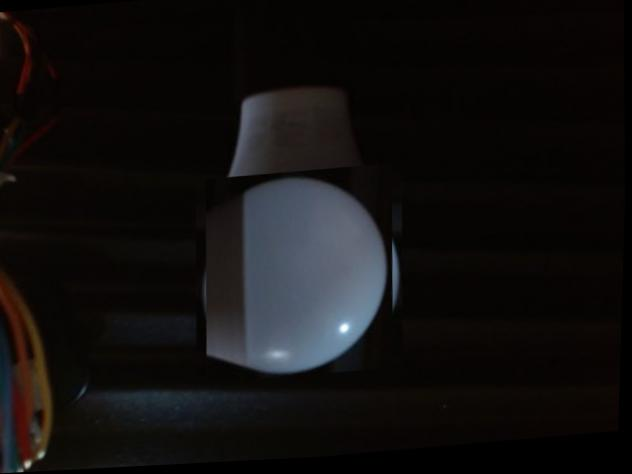Fan: (196, 170, 404, 382)
